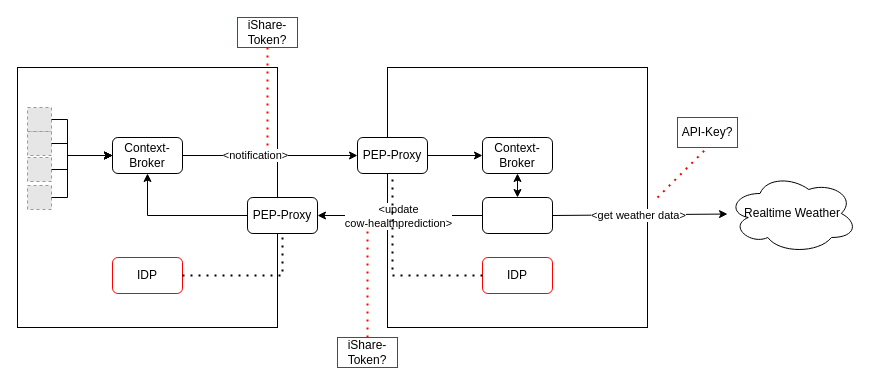
The diagram is 875 pixels wide and 385 high, and some of its shapes have lost their labels. Grey dashed boxes stand in for pictures. The box of each missing label's shape, as (x1, y1, x2, y2) in pixels:
AI-Service: (482, 196, 552, 234)
HappyCattle: (16, 66, 278, 328)
Smart Shepherd: (386, 66, 648, 328)
